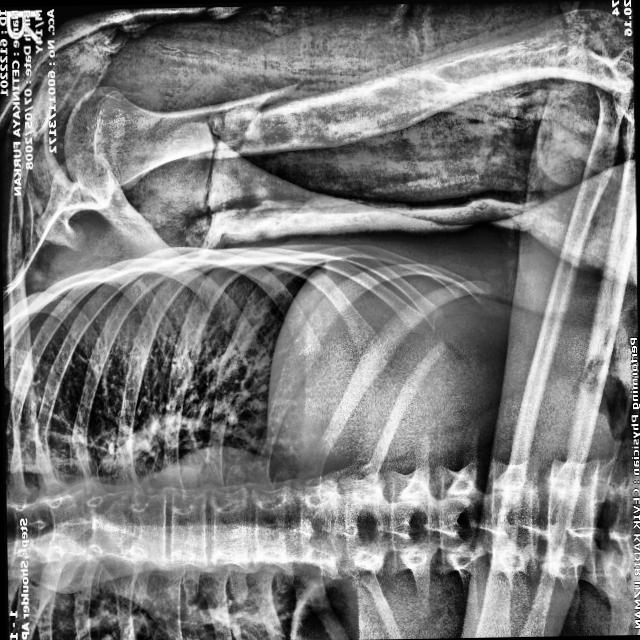Fracture: (186, 74, 306, 173)
